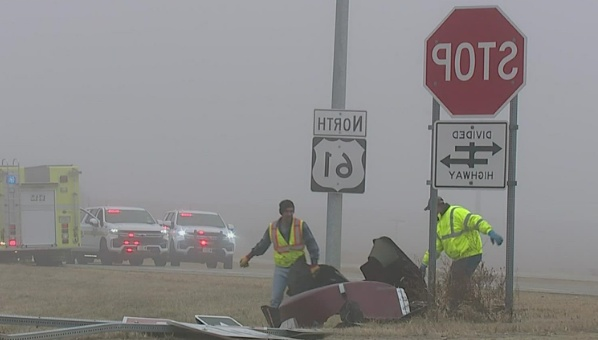Stop: (418, 0, 531, 120)
